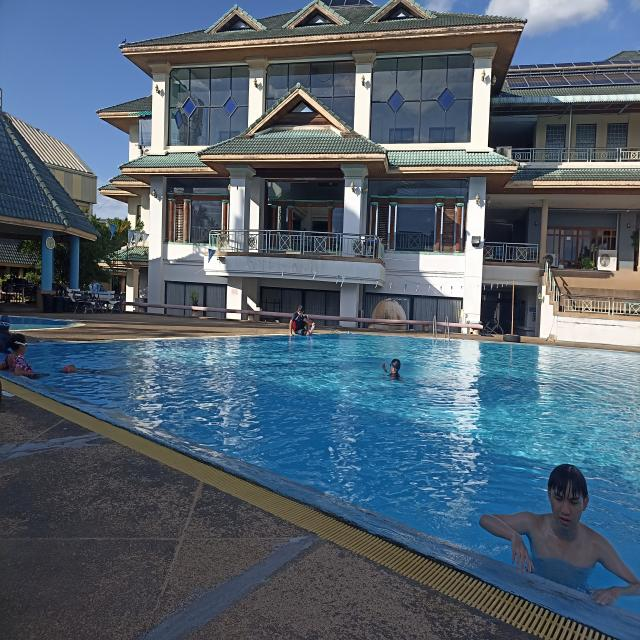Swimming: (479, 462, 640, 609), (6, 336, 36, 381), (377, 357, 410, 387), (0, 313, 17, 357)
